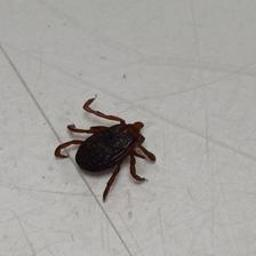Rhipicephalus sanguineus: (53, 97, 156, 203)
